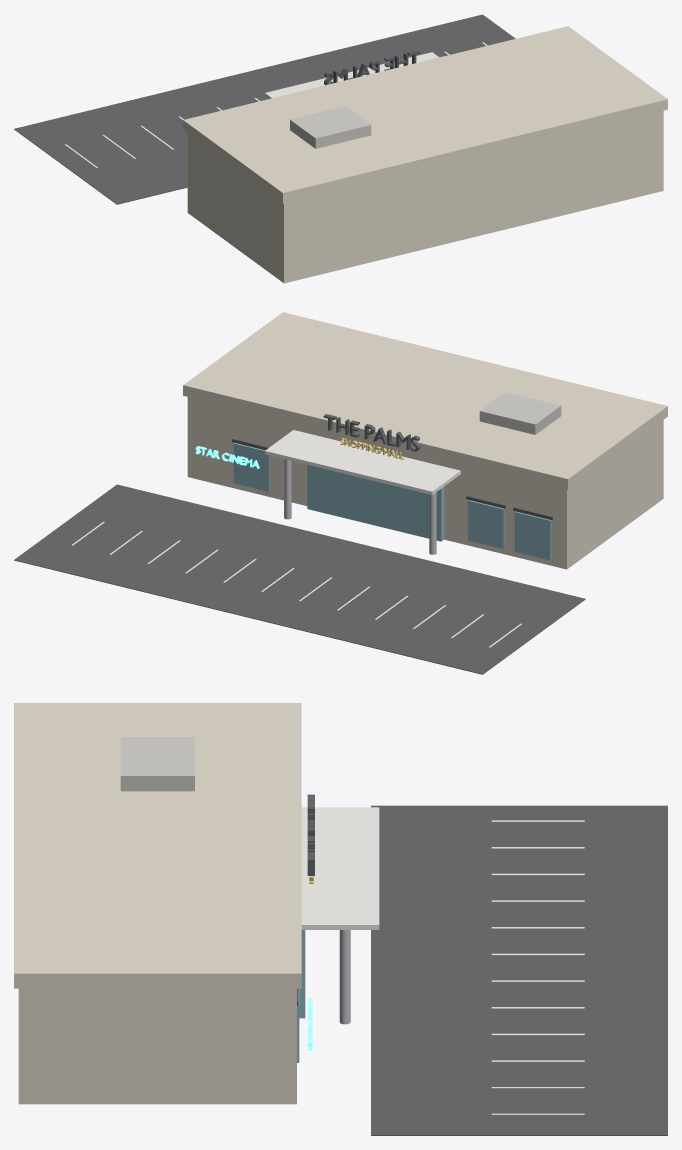
Rendered from palms_mall.glb.
3 renders of one model, top to bottom at view 1: azimuth 30°, elevation 25°; view 2: azimuth 150°, elevation 25°; view 3: azimuth 270°, elevation 25°, orthographic. The views are drawn at different scales.
Visible parts, largest first — view 1: BLD_palms_mall; view 2: BLD_palms_mall; view 3: BLD_palms_mall.
Boxes of the visible parts, box(x1,y1,x2,y2) form: BLD_palms_mall: box(14, 14, 667, 283); BLD_palms_mall: box(14, 312, 667, 674); BLD_palms_mall: box(14, 703, 667, 1135).
Size of the model in its own units: 42 by 8.81 by 35.25.
